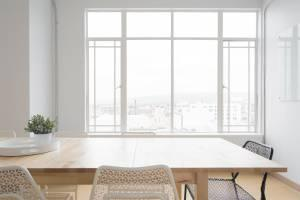window: (81, 6, 264, 136)
